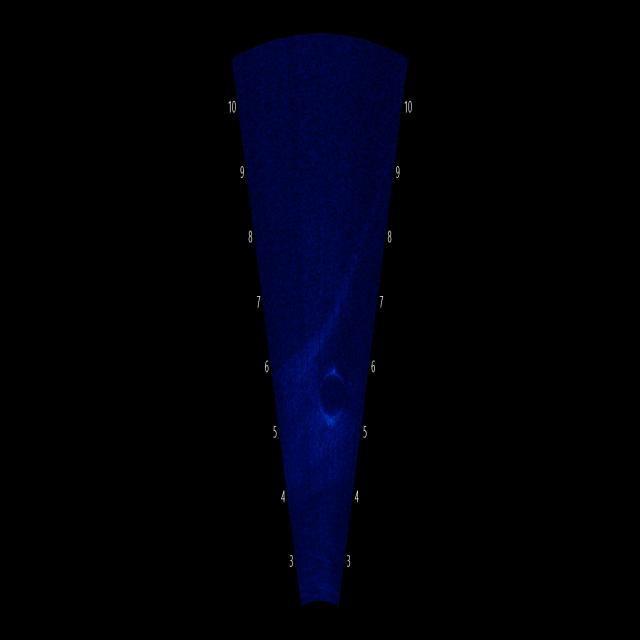circle: (311, 348, 354, 438)
